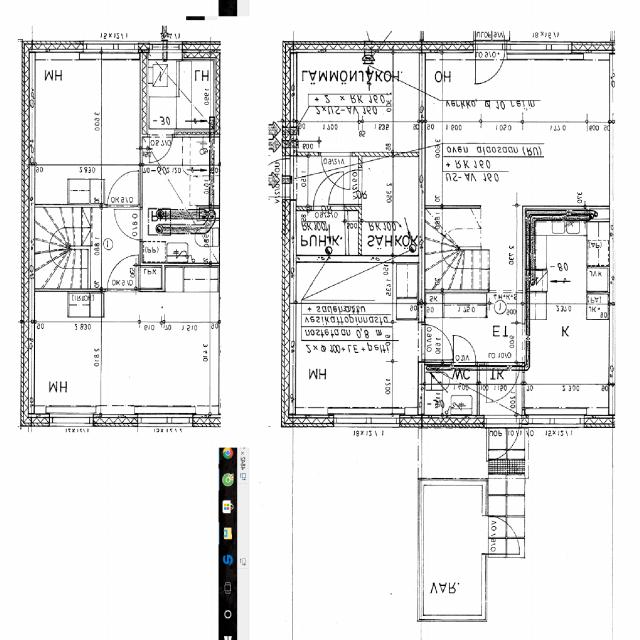door: (486, 414, 520, 467), (482, 516, 520, 554), (486, 362, 520, 404), (476, 41, 506, 88), (476, 6, 506, 53), (418, 324, 456, 360), (107, 167, 137, 207), (107, 254, 136, 292), (115, 210, 143, 239), (151, 128, 173, 162), (454, 336, 476, 366)
